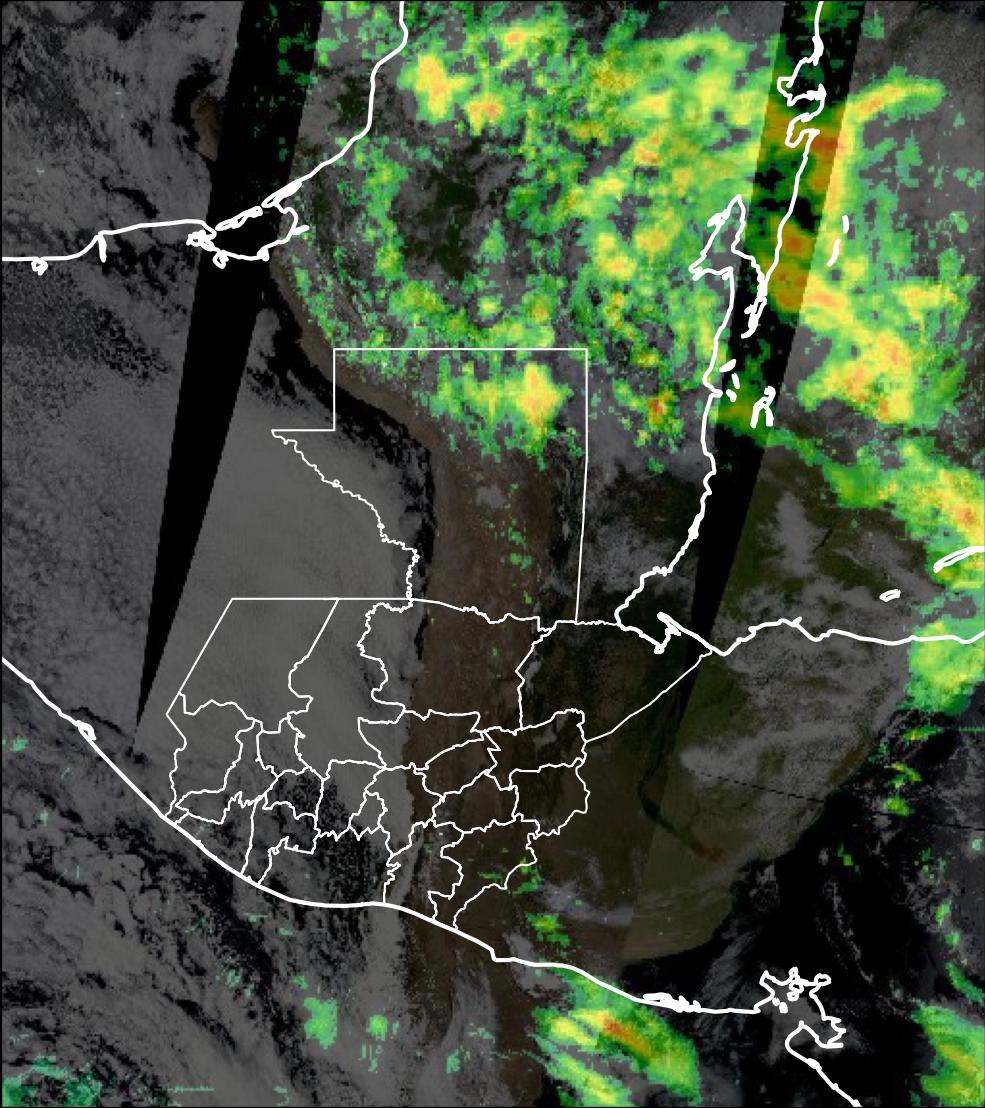precipitacion: (803, 130, 895, 245)
